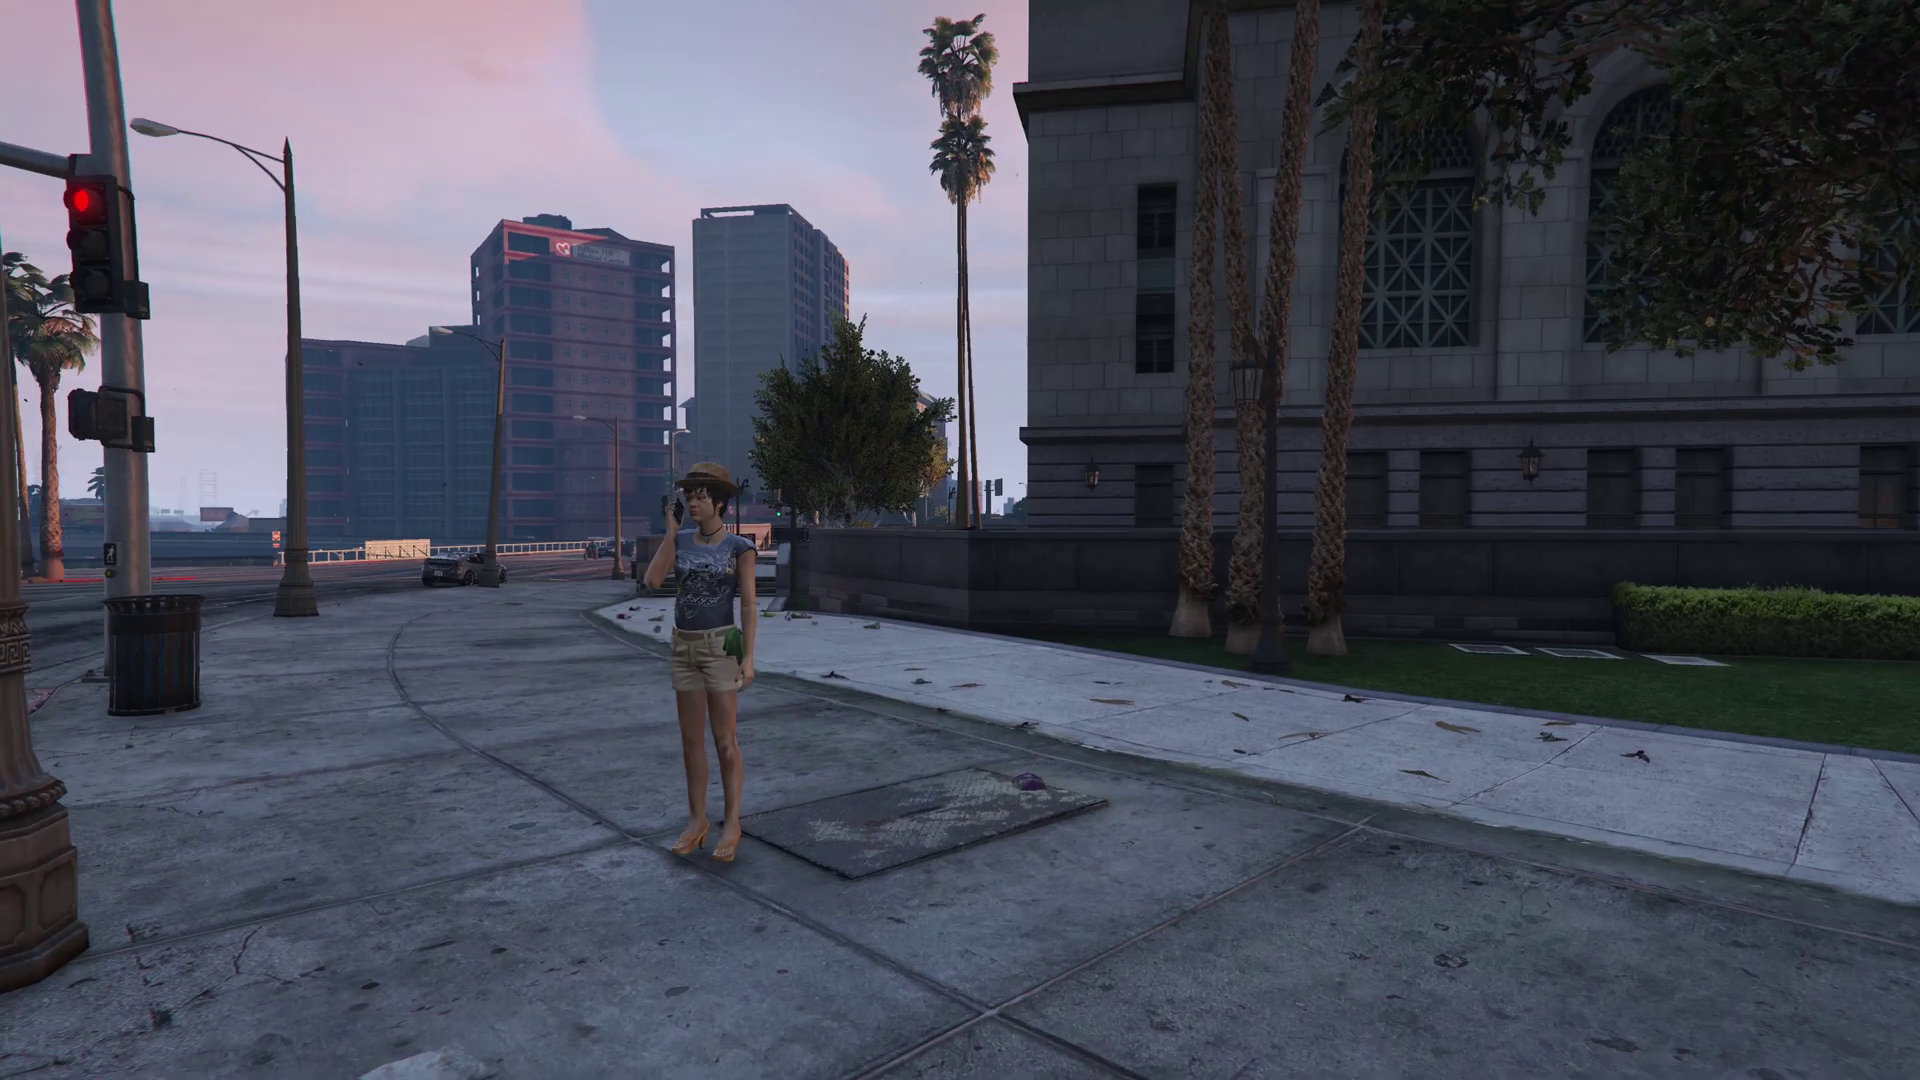car: (424, 551, 507, 583), (597, 541, 633, 559)
person: (640, 461, 762, 869)
traffic light: (65, 175, 133, 312), (69, 388, 124, 439)
